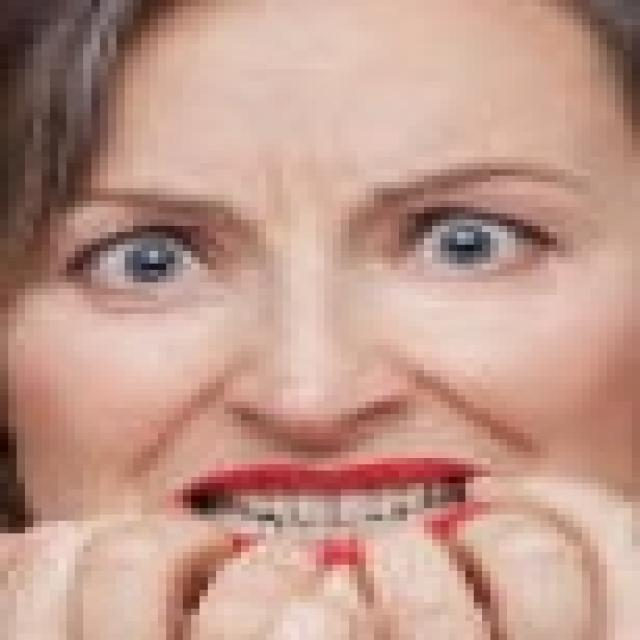Anxiety: (7, 0, 632, 634)
